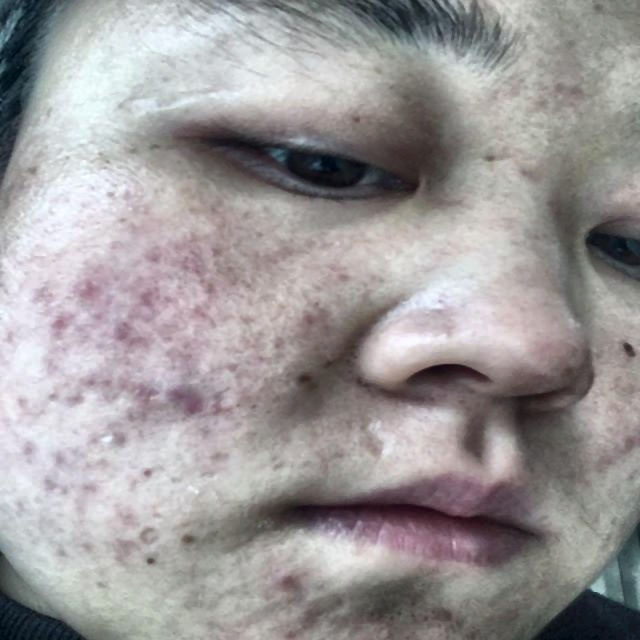pustule: (40, 312, 80, 340), (165, 381, 197, 415), (126, 379, 160, 411), (136, 288, 170, 316), (270, 572, 312, 594), (80, 274, 110, 304), (46, 446, 78, 474), (36, 473, 67, 499), (70, 372, 106, 390), (114, 323, 146, 343)
